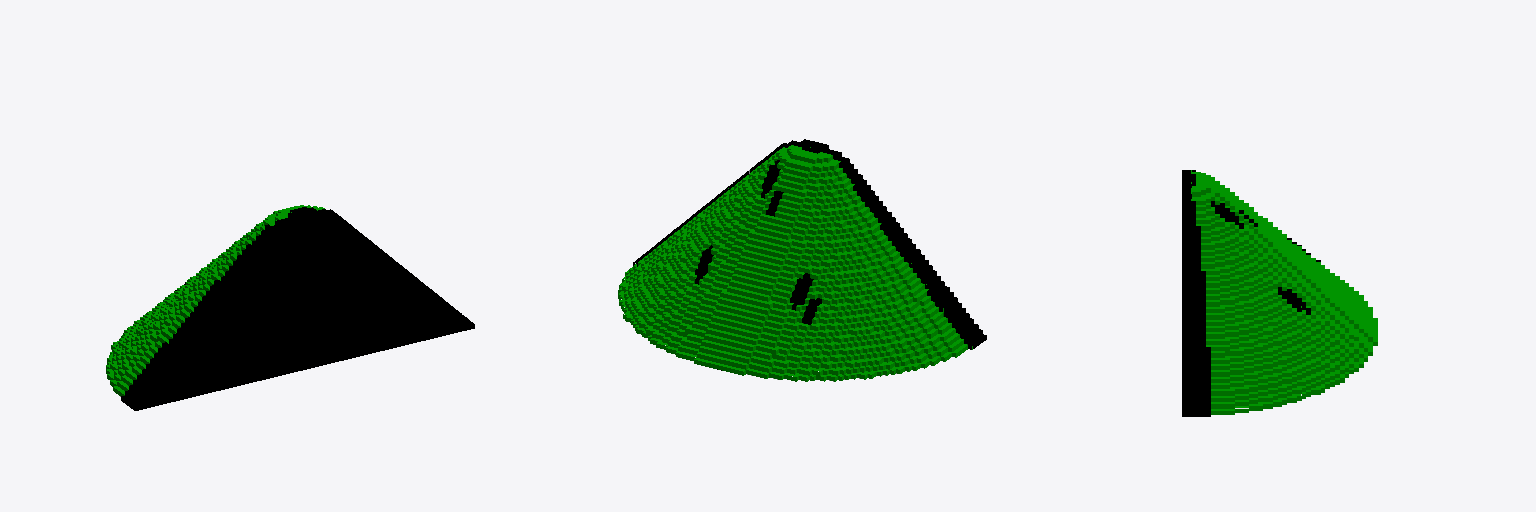
The picture shows the model from 3 angles: view 1: azimuth 30°, elevation 25°; view 2: azimuth 150°, elevation 25°; view 3: azimuth 270°, elevation 25°; orthographic projection.
Parts seen in each view (by area): view 1: Mountain; view 2: Mountain; view 3: Mountain.
Part boxes in pixels (bbox=[...]): Mountain: bbox=[106, 205, 474, 410]; Mountain: bbox=[618, 139, 986, 381]; Mountain: bbox=[1182, 170, 1377, 416].
Bounding box in the file's own units: 820 × 360 × 410.
Materials: 1 (1 with a texture image).